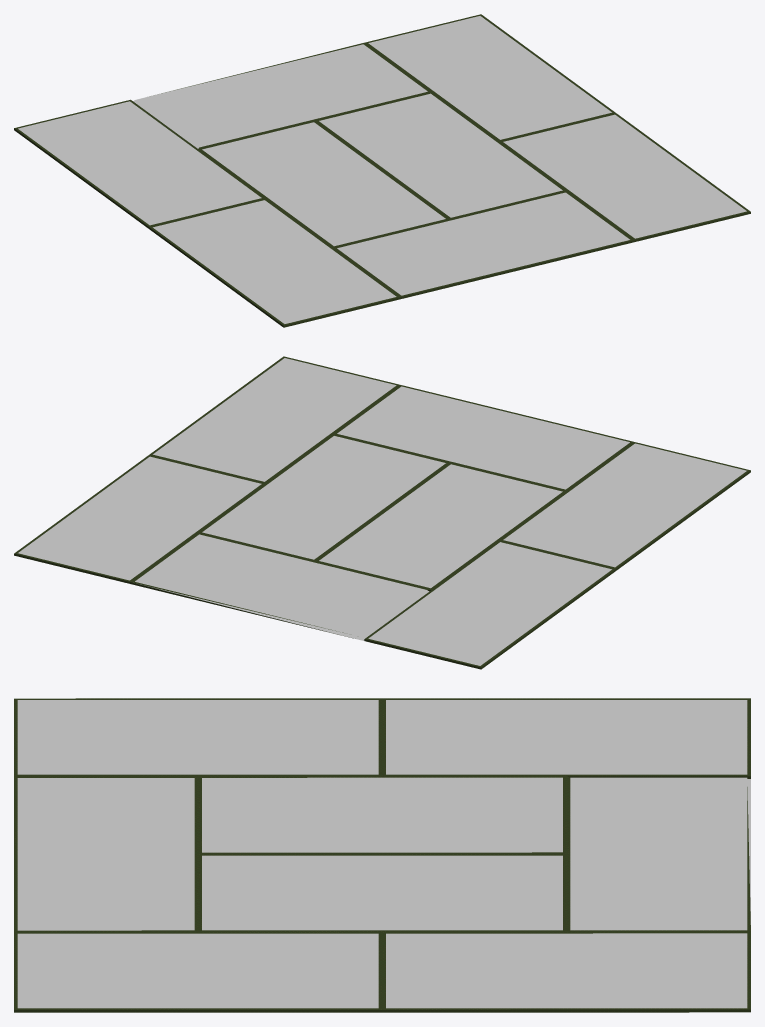
Rendered from tatami.fbx.
3 renders of one model, top to bottom at view 1: azimuth 30°, elevation 25°; view 2: azimuth 150°, elevation 25°; view 3: azimuth 270°, elevation 25°, orthographic. The views are drawn at different scales.
Parts seen in each view (by area): view 1: Tatami__4_; view 2: Tatami__4_; view 3: Tatami__4_.
Part boxes in pixels (<box>): Tatami__4_: <box>14,14,750,327</box>; Tatami__4_: <box>14,356,750,669</box>; Tatami__4_: <box>14,698,750,1012</box>.
Bounding box in the file's own units: 462 × 2.04 × 462.
